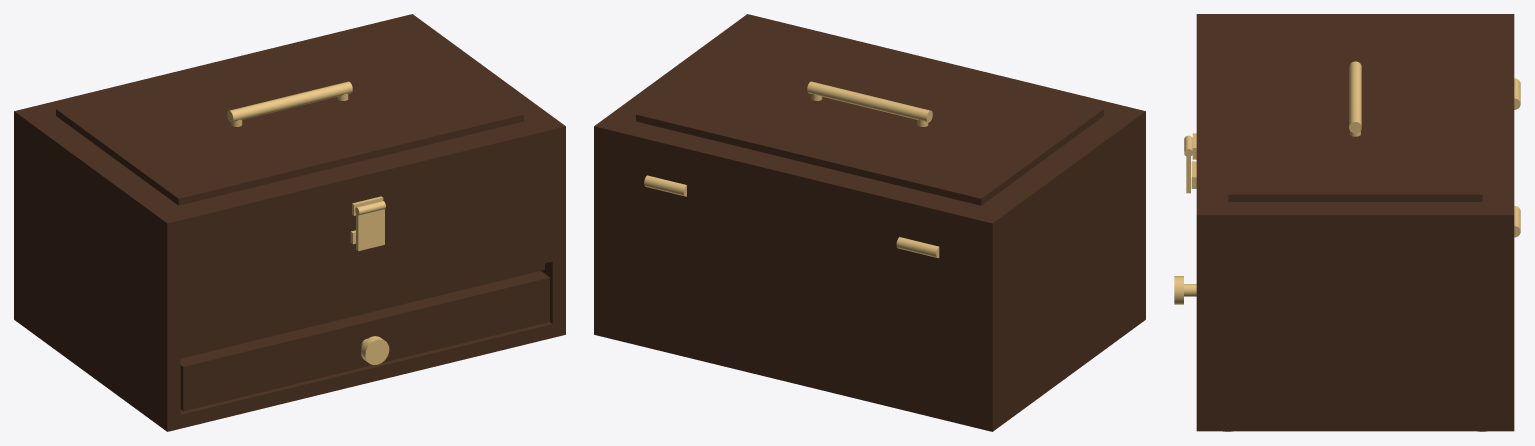
The model's file is case.glb.
The picture shows the model from 3 angles, left to right: view 1: azimuth 30°, elevation 25°; view 2: azimuth 150°, elevation 25°; view 3: azimuth 270°, elevation 25°; orthographic projection. The views are drawn at different scales.
Visible parts, largest first — view 1: lid, body, drawer, lid_handle, hasp, drawer_knob; view 2: body, lid, lid_handle; view 3: lid, body, lid_handle, drawer_knob, hasp.
Boxes of the visible parts, x1=… form: lid: x1=14, y1=14, x2=565, y2=264; body: x1=14, y1=153, x2=565, y2=431; drawer: x1=180, y1=271, x2=549, y2=411; lid_handle: x1=227, y1=81, x2=352, y2=126; hasp: x1=355, y1=201, x2=385, y2=250; drawer_knob: x1=361, y1=336, x2=389, y2=364; body: x1=594, y1=153, x2=1145, y2=431; lid: x1=594, y1=14, x2=1145, y2=264; lid_handle: x1=807, y1=81, x2=932, y2=126; lid: x1=1192, y1=14, x2=1514, y2=258; body: x1=1191, y1=78, x2=1520, y2=431; lid_handle: x1=1349, y1=61, x2=1361, y2=136; drawer_knob: x1=1174, y1=276, x2=1196, y2=304; hasp: x1=1184, y1=135, x2=1192, y2=193.
Size of the model in its own units: 0.3 by 0.172 by 0.218.
